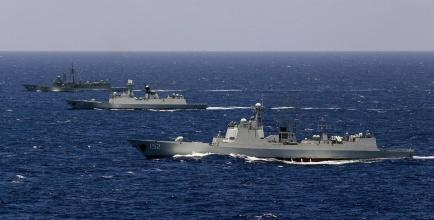warship: (121, 104, 408, 162), (59, 78, 258, 114), (20, 68, 123, 97)
